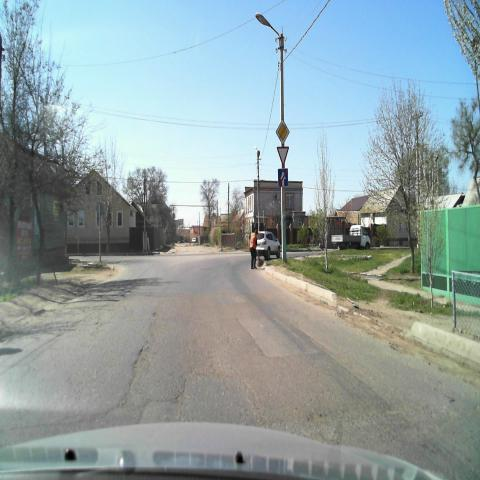2_2: (274, 120, 290, 144)
5_6: (278, 168, 288, 186)
